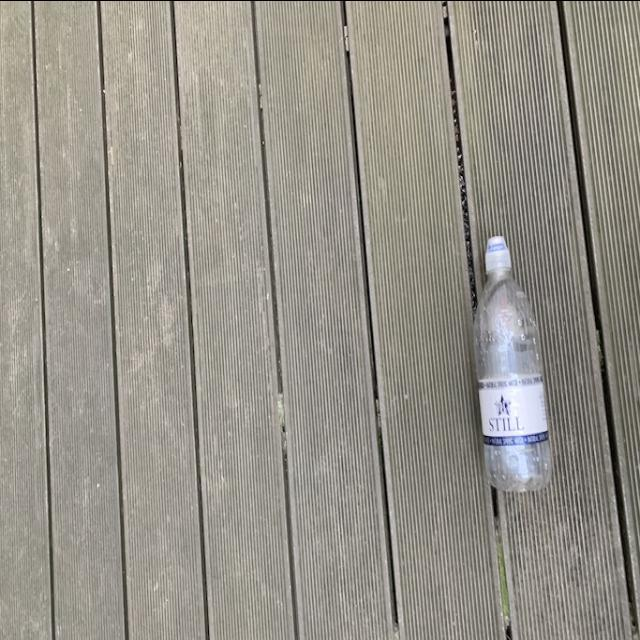PET: (471, 233, 557, 488)
